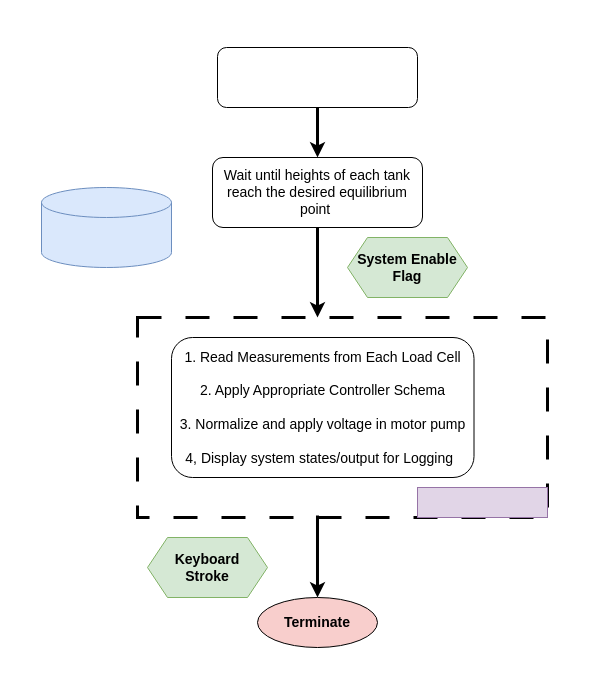
Some shapes in this 615 by 695 pixel diagram are drawn without their labels. Each missing label, with the box of its shape:
Arduino Main Loop: (416, 486, 548, 518)
Setup PINs for load cell sensors and Pump Motor: (216, 46, 418, 108)
System State Data Structure: (40, 186, 172, 268)
